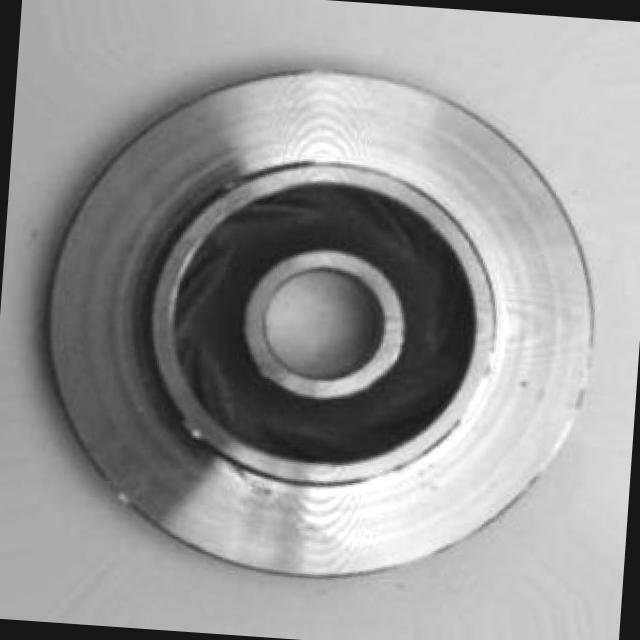Defect: (232, 465, 284, 504)
